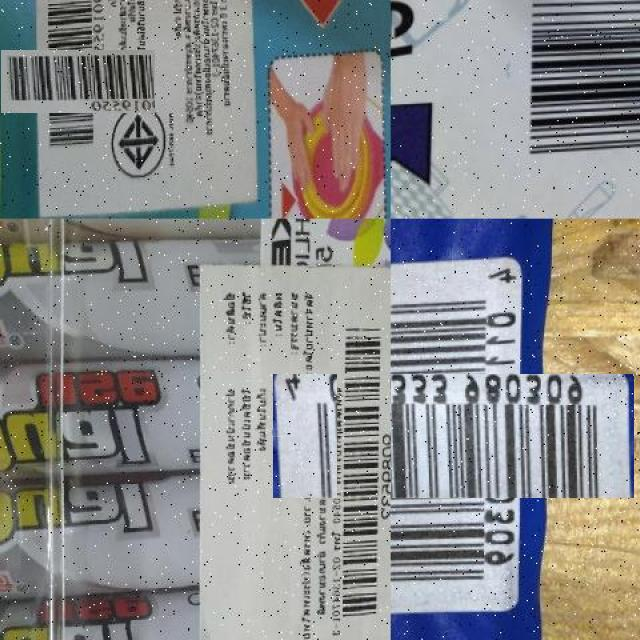Barcode: (332, 315, 575, 558), (505, 0, 640, 175), (337, 313, 391, 635), (18, 25, 131, 137)
